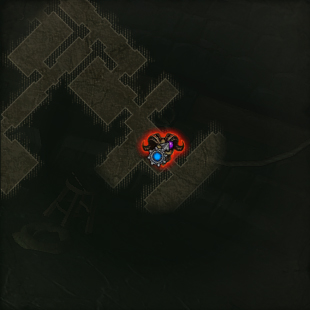Guardian: (140, 130, 186, 167)
